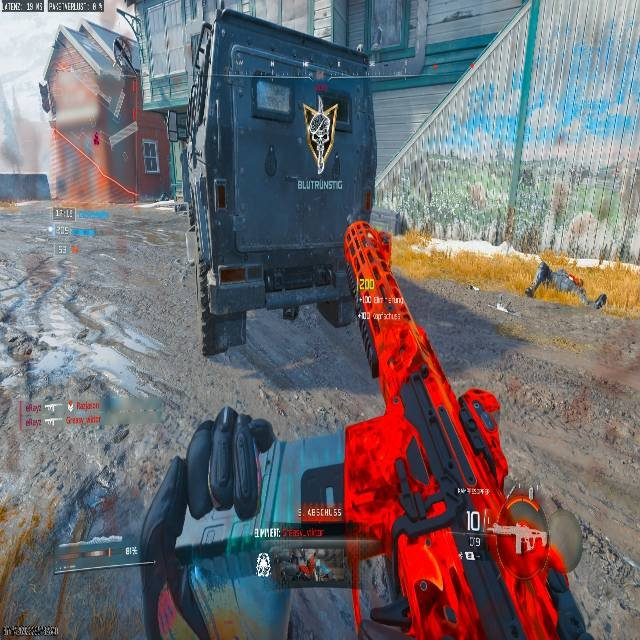player: (36, 1, 141, 204)
